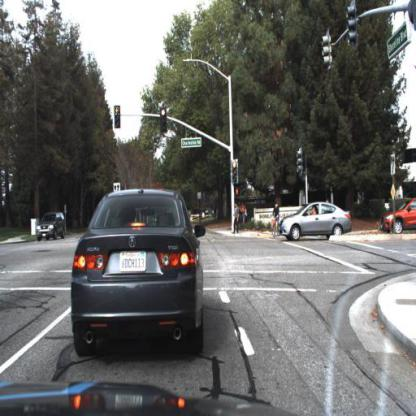biker: (271, 202, 283, 240), (325, 199, 339, 212)
car: (71, 186, 206, 357), (278, 202, 352, 243), (380, 197, 416, 232), (36, 210, 66, 242)
pedestrian: (231, 201, 243, 232), (232, 202, 240, 236), (241, 201, 249, 228), (237, 202, 242, 231)
trafficLight-Red: (161, 108, 167, 133), (233, 160, 239, 183)
trafficLight-RedLeft: (115, 103, 123, 128), (114, 105, 122, 128)
